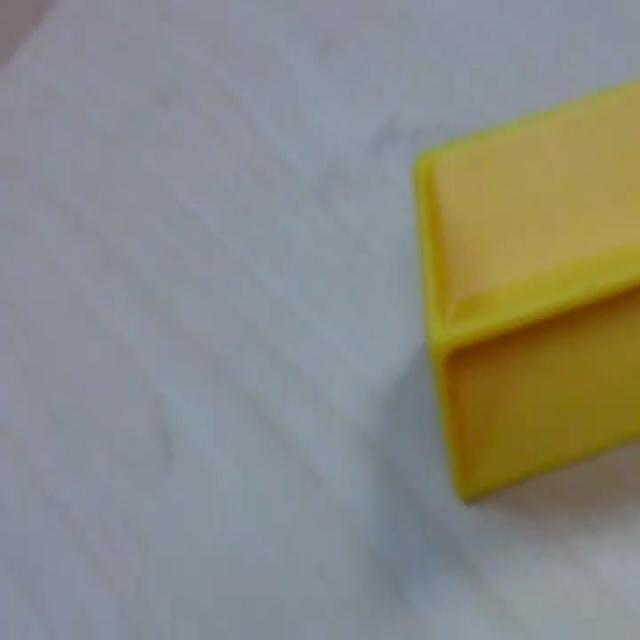yellow_block: (412, 76, 638, 504)
